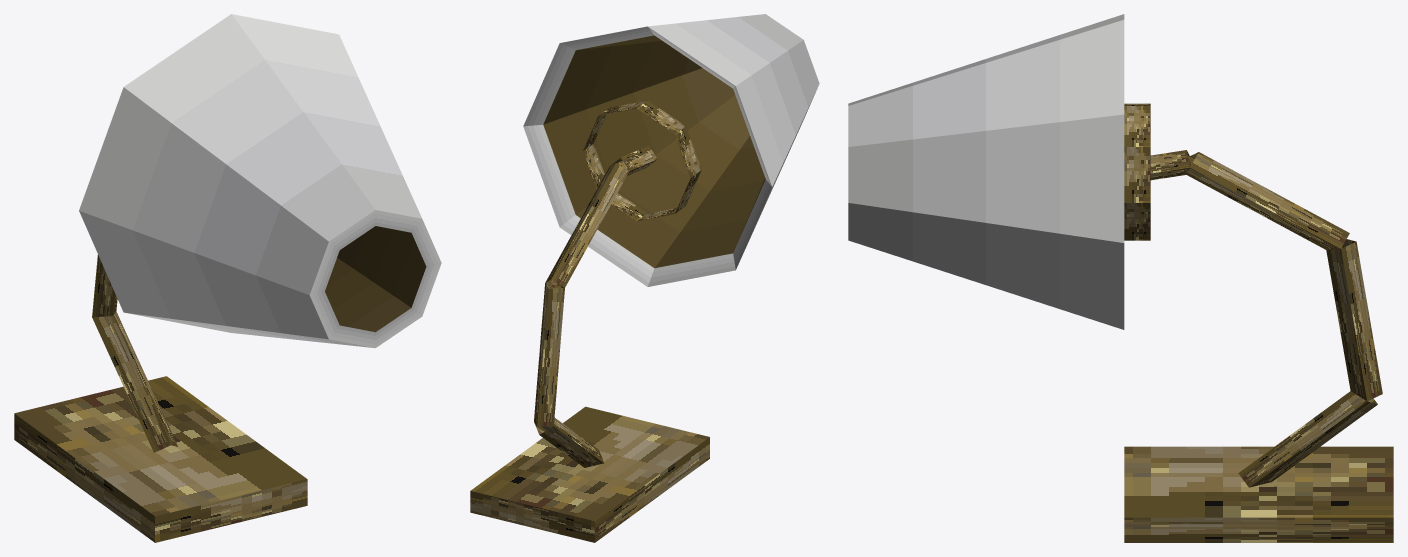
The model's file is pz_native_lighting_indoor_02_61_wall_lamp.obj.
3 renders of one model, left to right at view 1: azimuth 30°, elevation 25°; view 2: azimuth 150°, elevation 25°; view 3: azimuth 270°, elevation 25°, orthographic. The views are drawn at different scales.
Parts seen in each view (by area): view 1: pz_native_lighting_indoor_02_61_wall_lamp; view 2: pz_native_lighting_indoor_02_61_wall_lamp; view 3: pz_native_lighting_indoor_02_61_wall_lamp.
Part boxes in pixels (x1,y1,x2,y2): pz_native_lighting_indoor_02_61_wall_lamp: (14,14,441,542); pz_native_lighting_indoor_02_61_wall_lamp: (470,14,819,542); pz_native_lighting_indoor_02_61_wall_lamp: (848,14,1393,542).
Bounding box in the file's own units: 0.3722 × 0.5955 × 0.603.
1 material, 1 textured.
